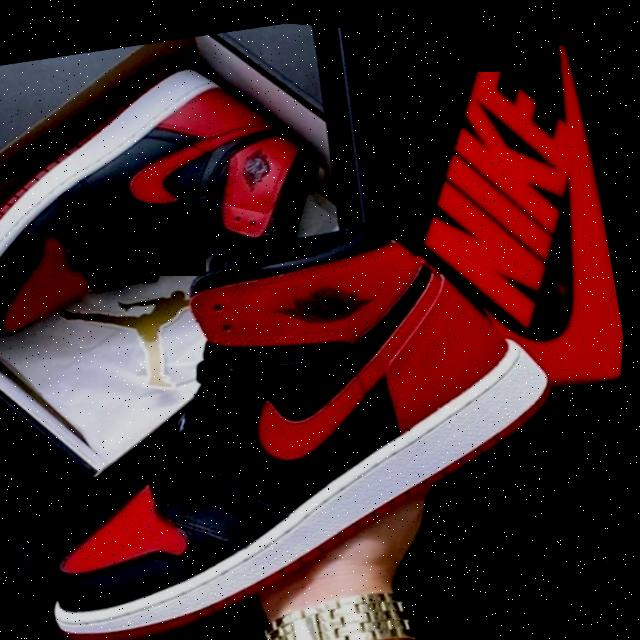shoes: (0, 187, 599, 640), (0, 50, 311, 319)
